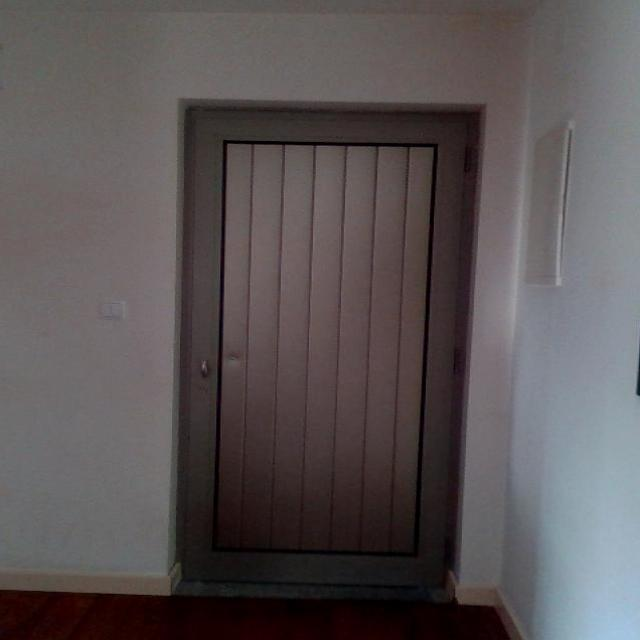door: (175, 103, 476, 595)
